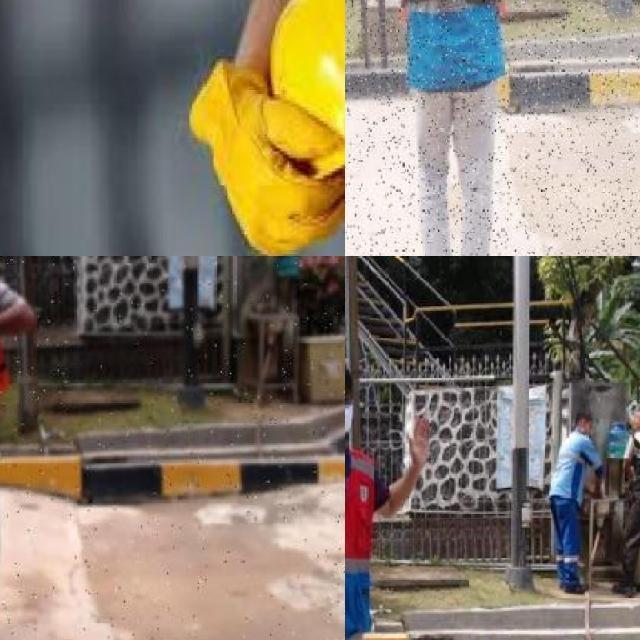apron: (188, 50, 345, 256)
